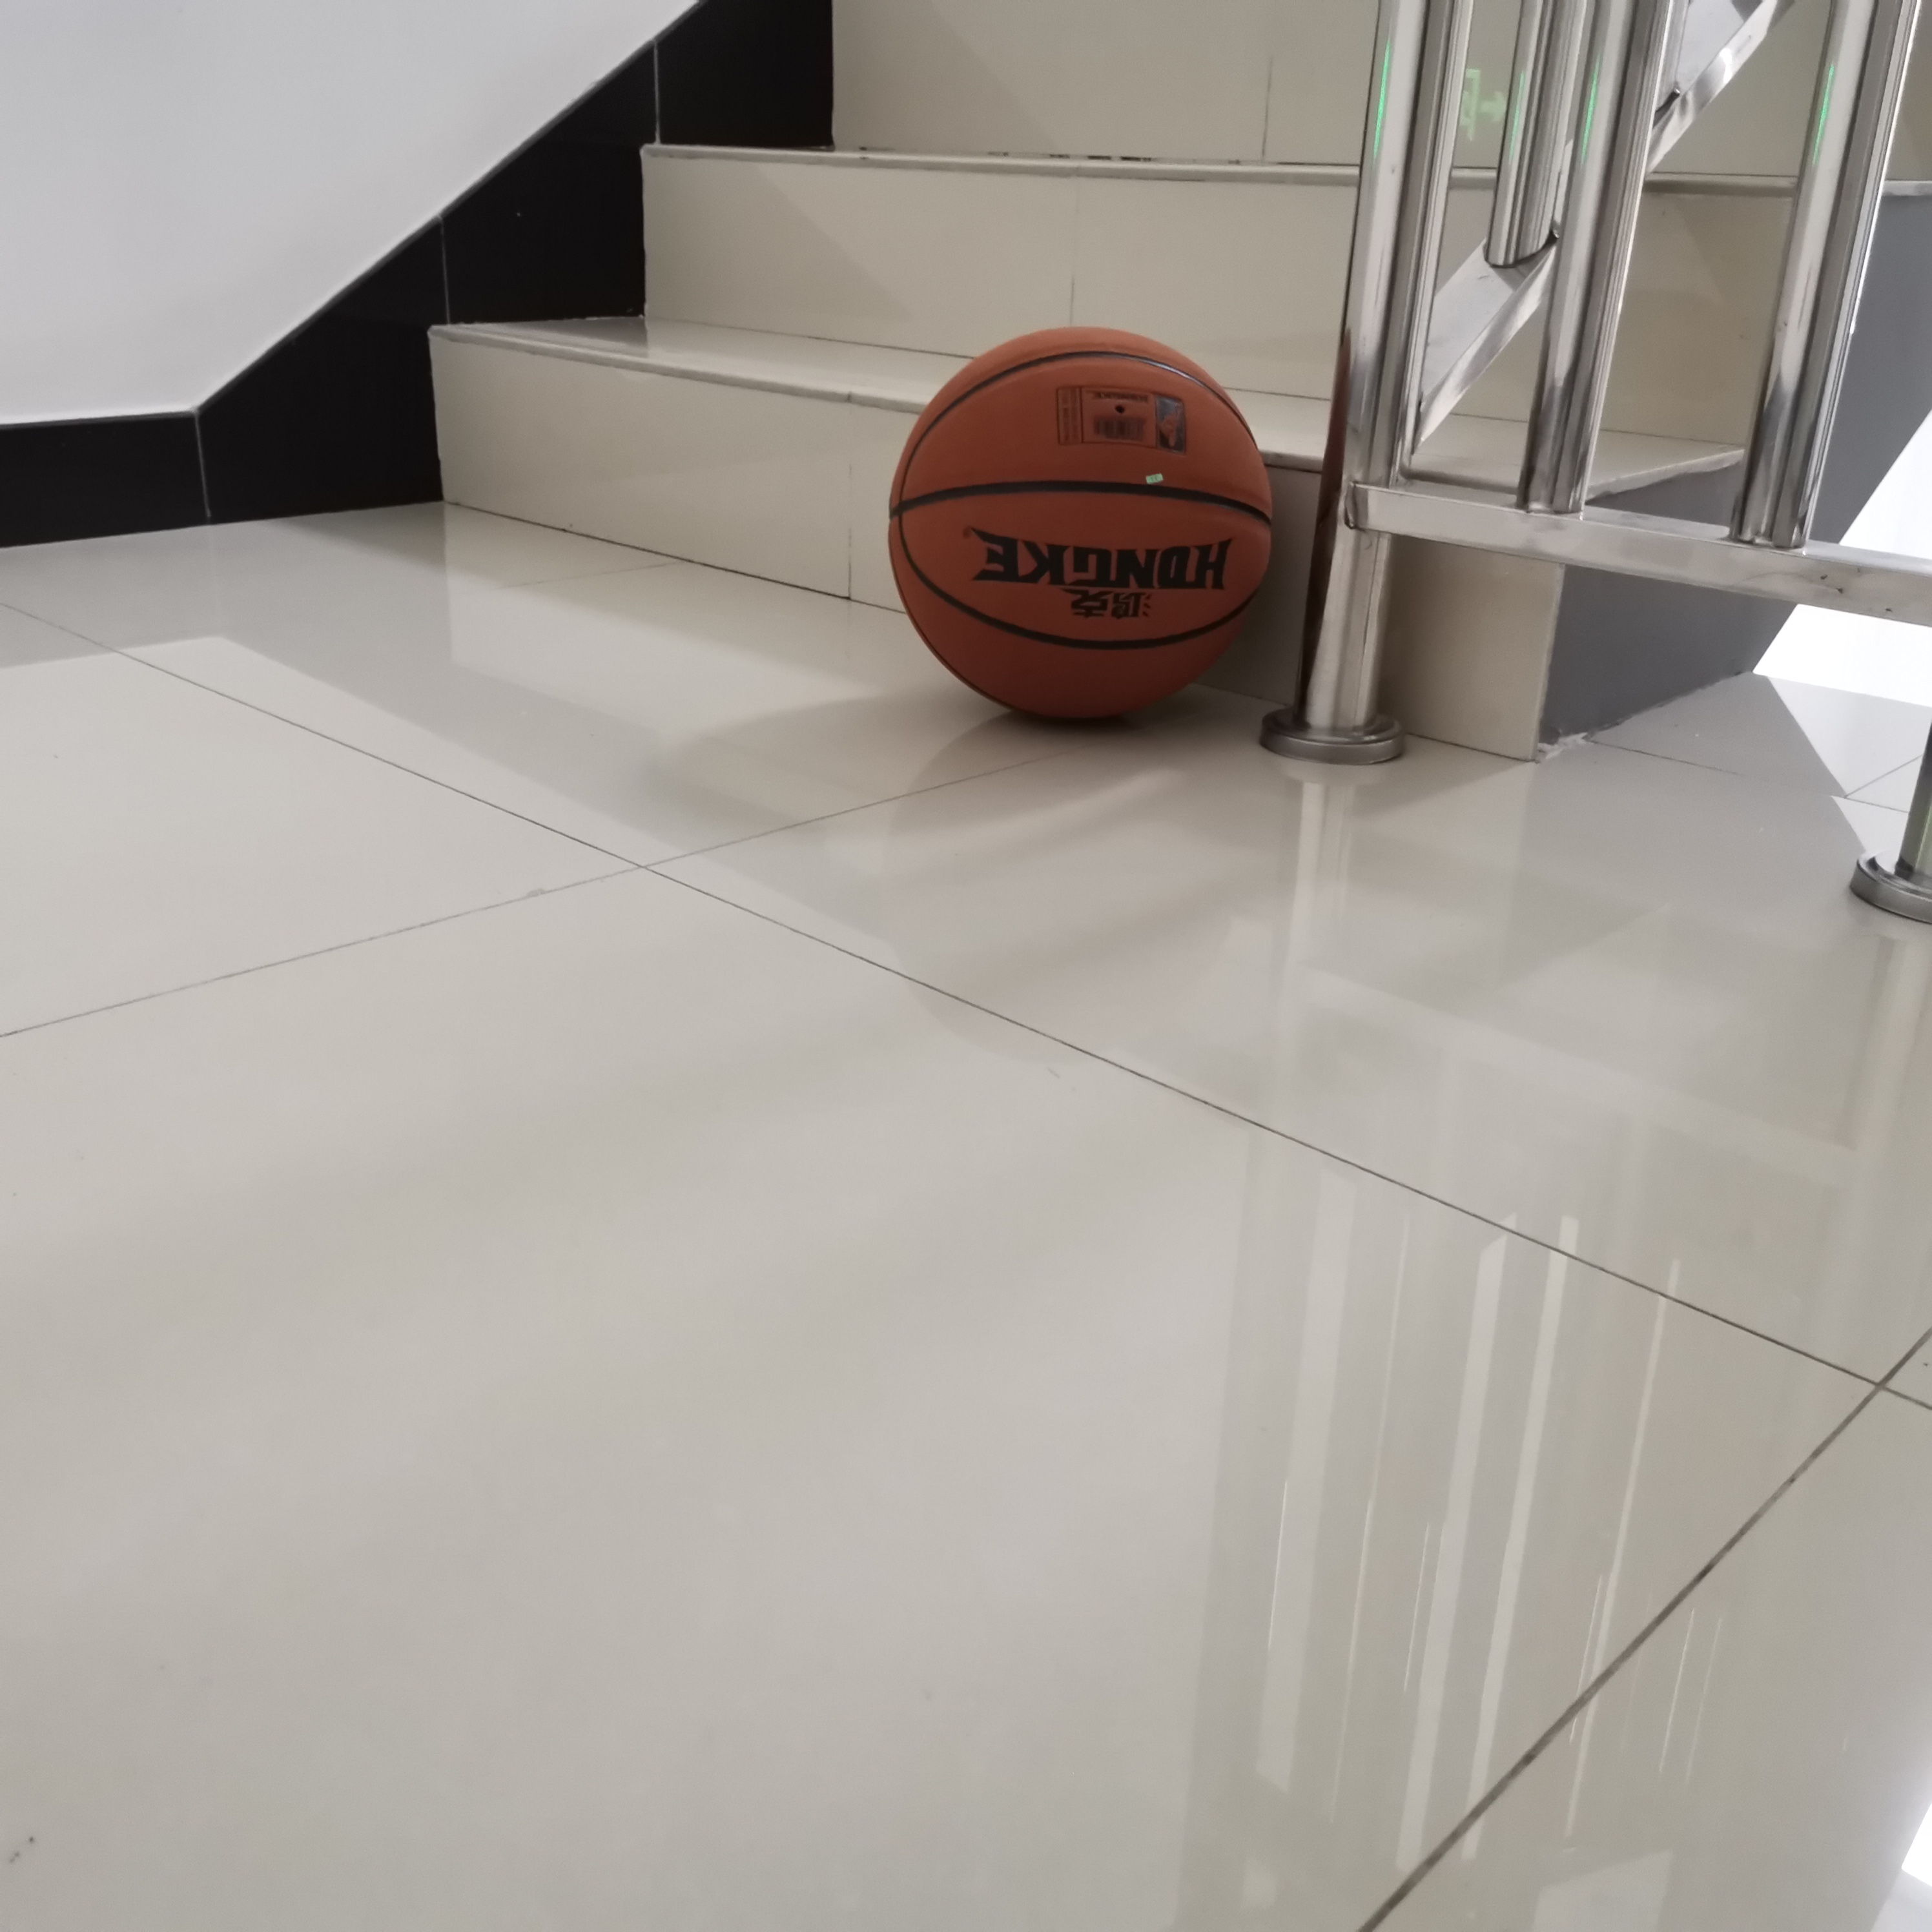basketball: (888, 329, 1272, 724)
